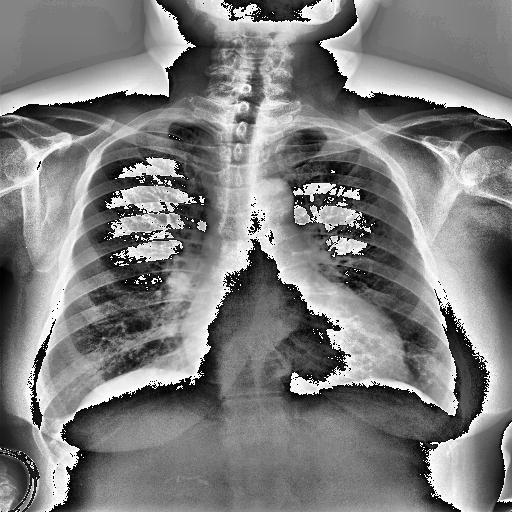0- Aortic enlargement: (181, 300, 409, 378), (252, 180, 296, 227)
10- Pleural effusion: (30, 411, 70, 454), (31, 408, 72, 448)
11- Pleural thickening: (30, 411, 70, 454), (31, 408, 72, 448)
